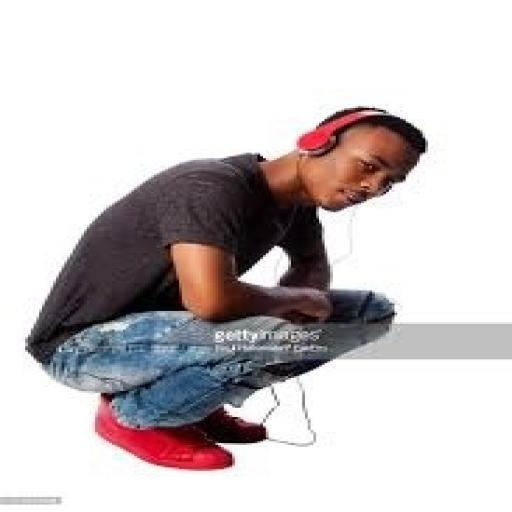listening_to_music: (22, 104, 434, 473)
